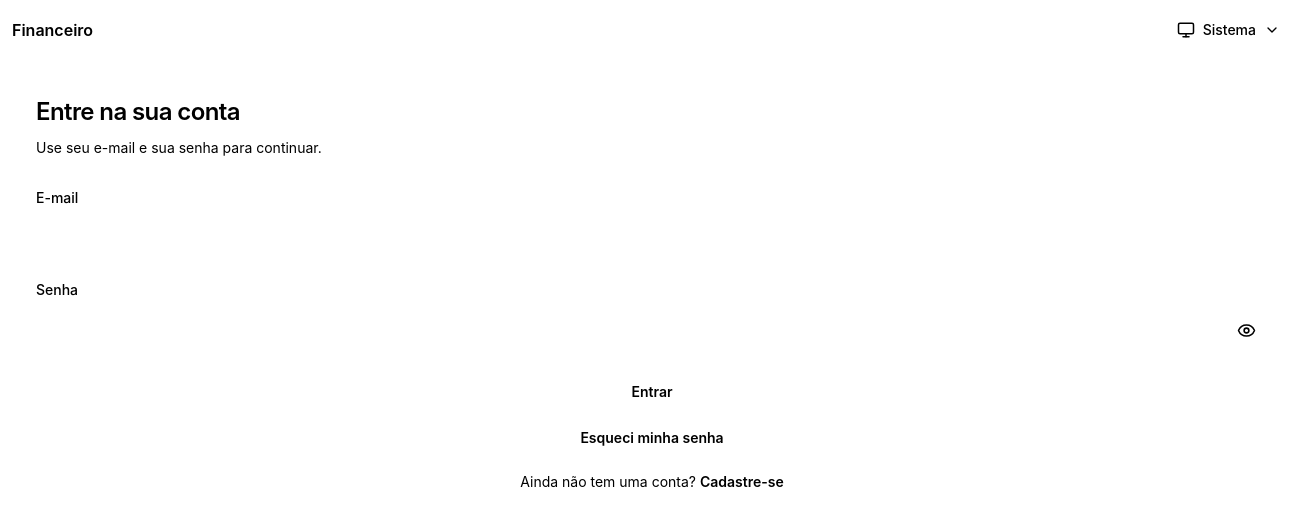
páginas de autenticação › mostra e oculta a senha sem alterar seu valor
Type "segredo" into the password field labelled "Senha" at [652, 330], box [36, 308, 1268, 352]
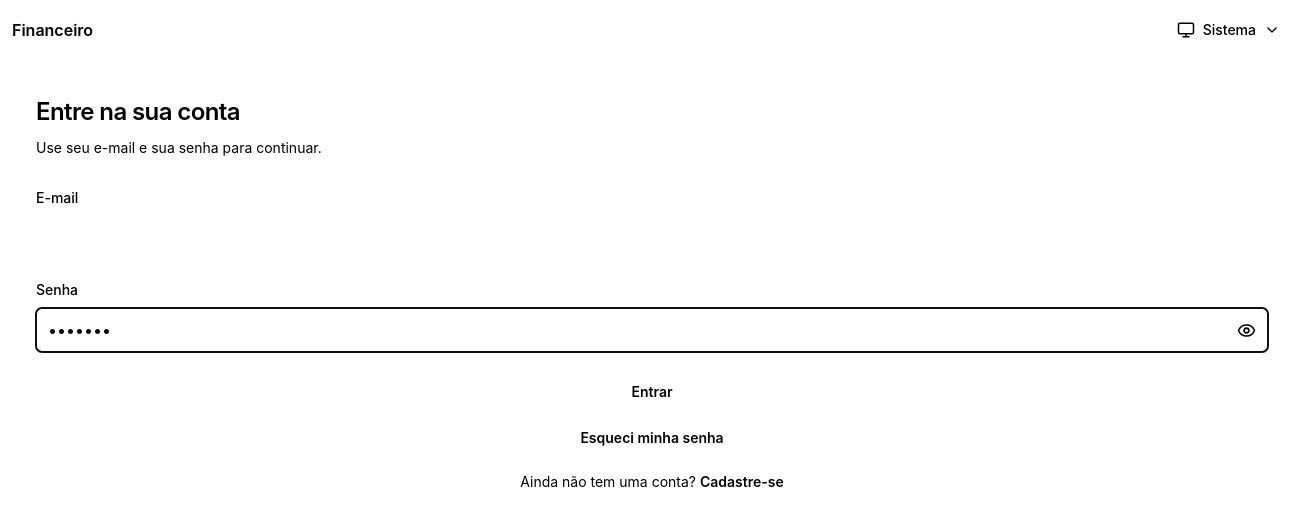
Click the button named "Mostrar senha" at [1246, 330], box [1224, 308, 1268, 352]
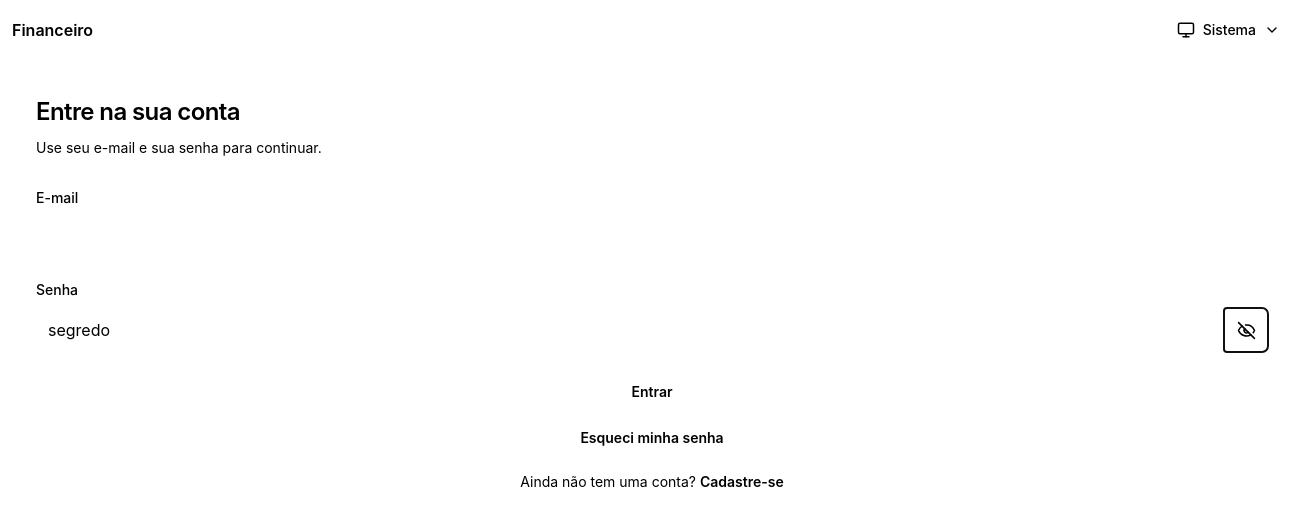
Result: the field labelled "Senha" shows its text at [36, 308, 1268, 352]
Click the button named "Ocultar senha" at [1246, 330], box [1224, 308, 1268, 352]
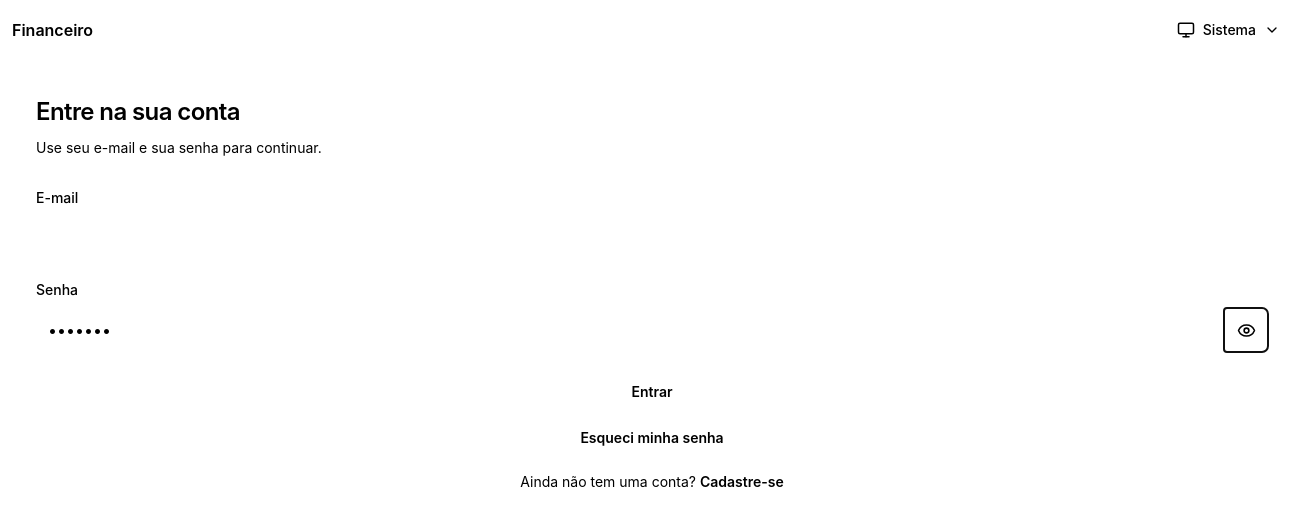
Result: the password field labelled "Senha" hides its text at [36, 308, 1268, 352]
